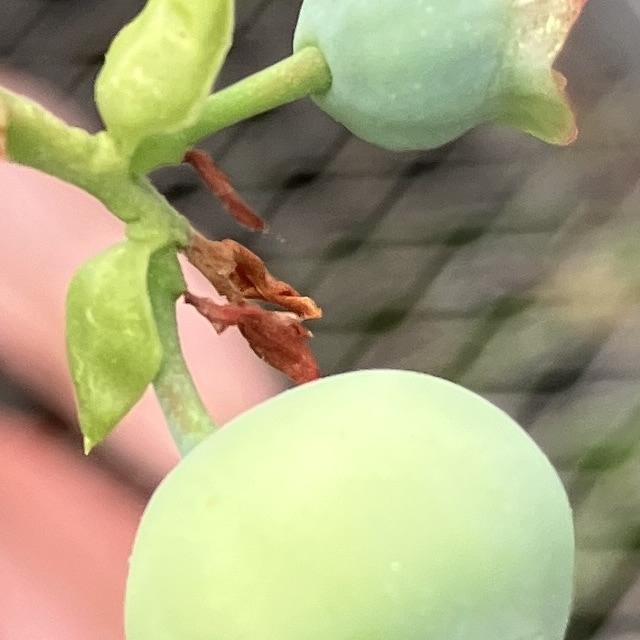Blueberries: (117, 361, 627, 640)
